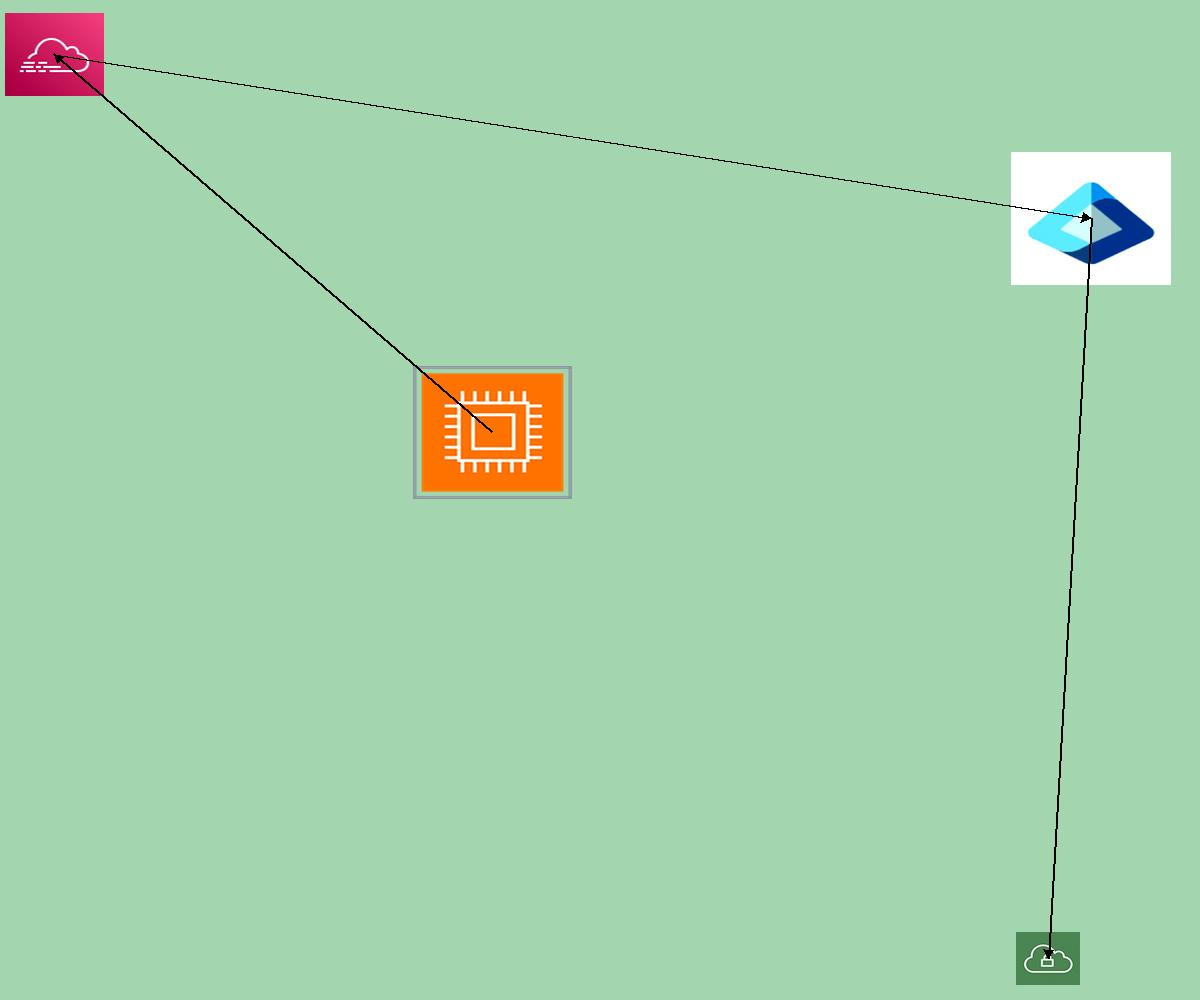AWS-Category_Compute: (413, 366, 572, 499)
AWS-CloudTrail: (5, 13, 104, 96)
AWS-Private_vpc: (1016, 932, 1080, 985)
Azure_microsoft_entra: (1011, 152, 1171, 285)
